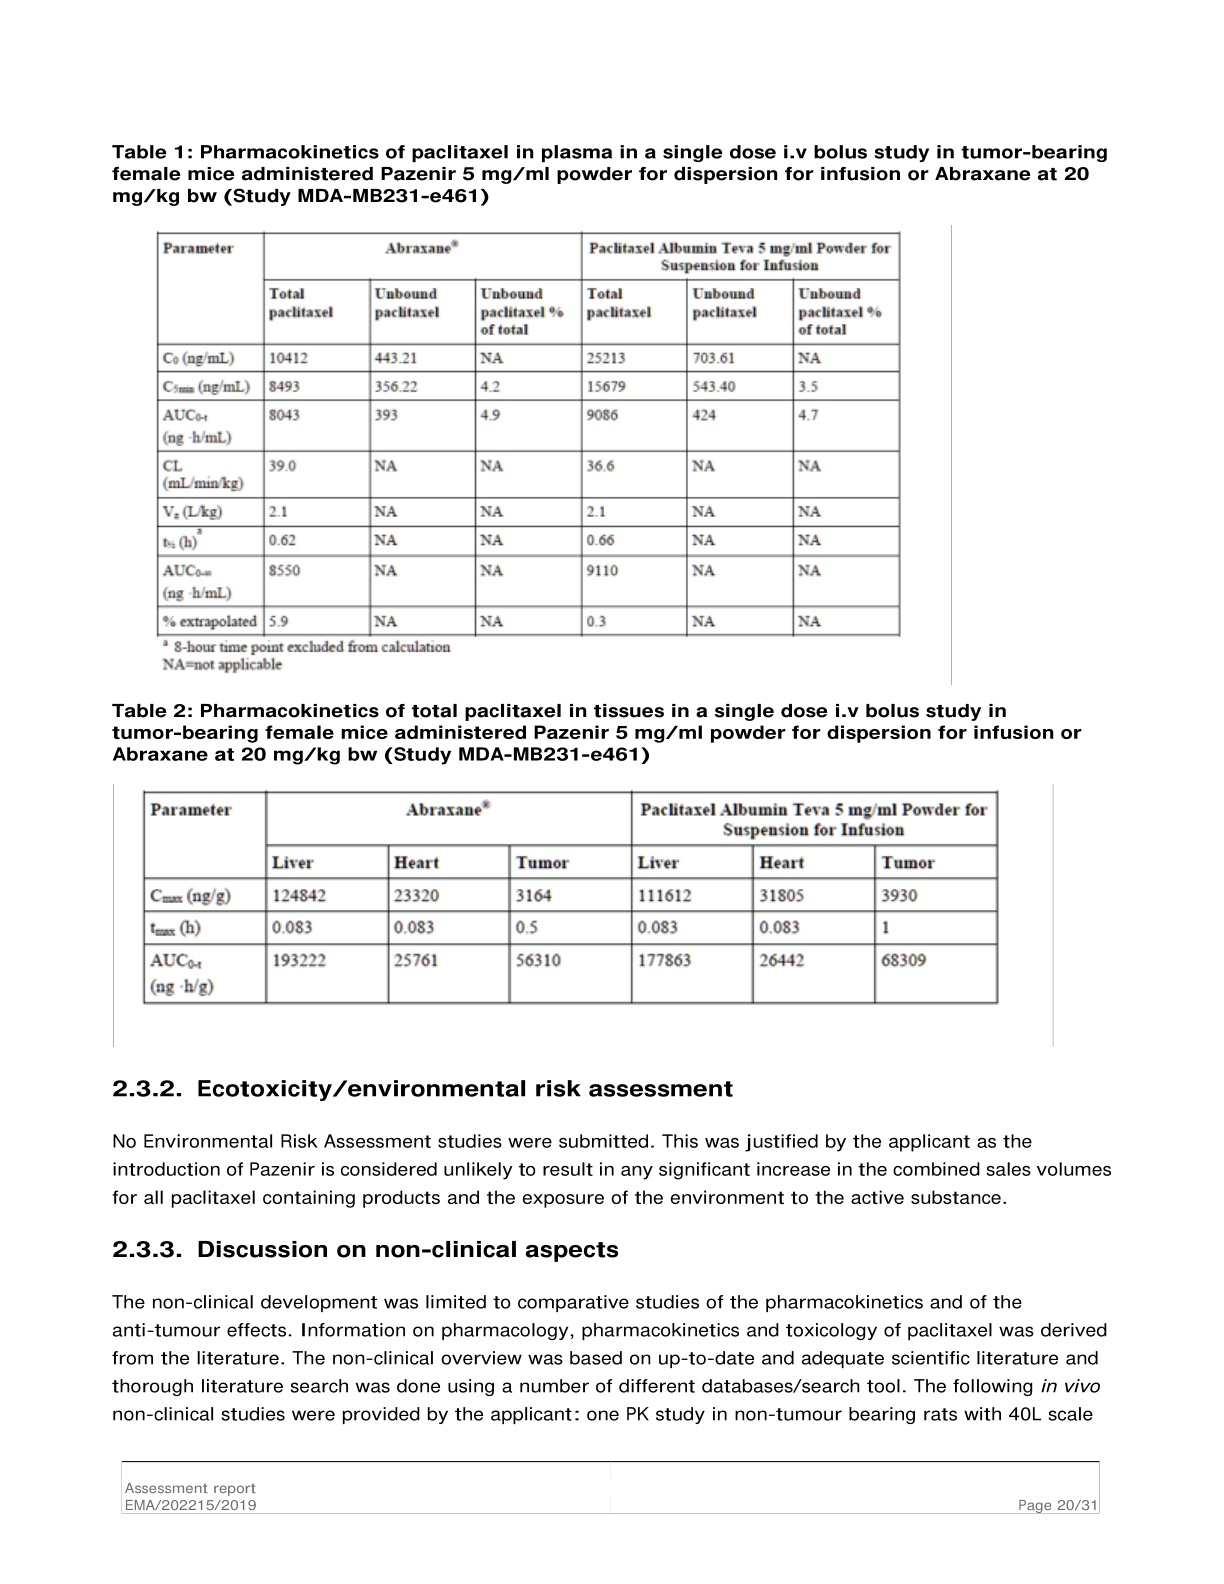merged_cells: (156, 231, 901, 636), (141, 791, 999, 1005)
